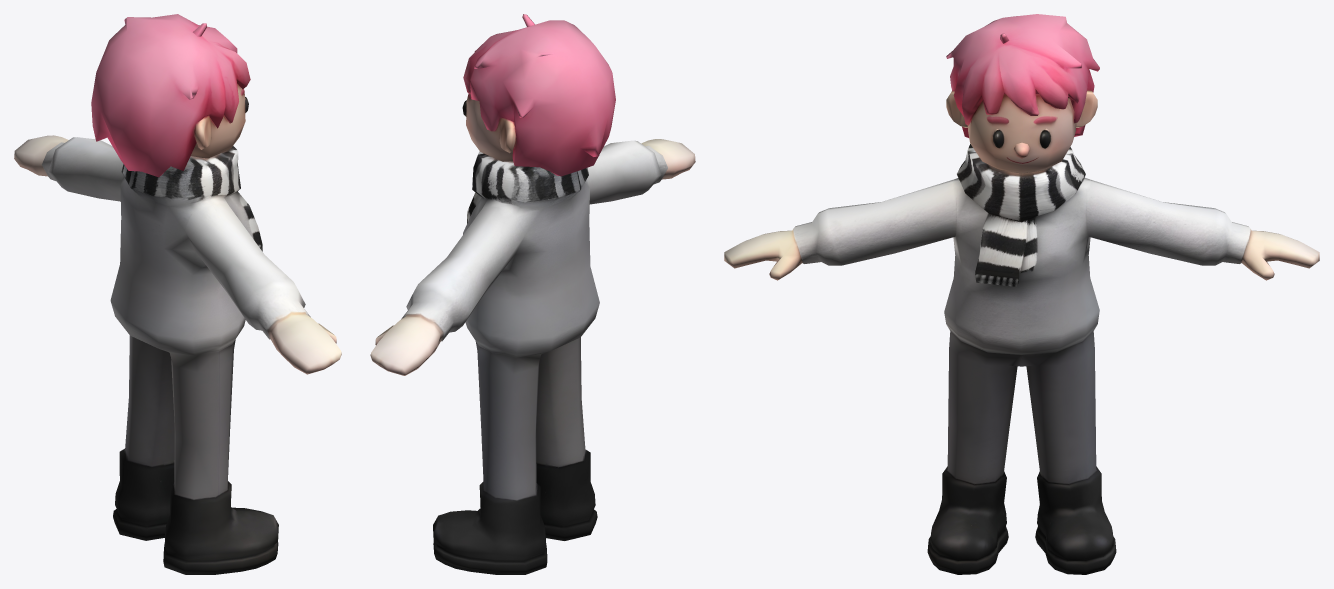
3 renders of one model, left to right at view 1: azimuth 30°, elevation 25°; view 2: azimuth 150°, elevation 25°; view 3: azimuth 270°, elevation 25°, orthographic.
Visible parts, largest first — view 1: tripo_node_07473506-6bfa-409a-94be-c038dccec002; view 2: tripo_node_07473506-6bfa-409a-94be-c038dccec002; view 3: tripo_node_07473506-6bfa-409a-94be-c038dccec002.
Boxes of the visible parts, box(x1,y1,x2,y2) form: tripo_node_07473506-6bfa-409a-94be-c038dccec002: box(14, 14, 341, 574); tripo_node_07473506-6bfa-409a-94be-c038dccec002: box(370, 14, 695, 574); tripo_node_07473506-6bfa-409a-94be-c038dccec002: box(724, 14, 1319, 574).
Size of the model in its own units: 0.2817 by 0.9595 by 0.9995.
1 material, 1 textured.
